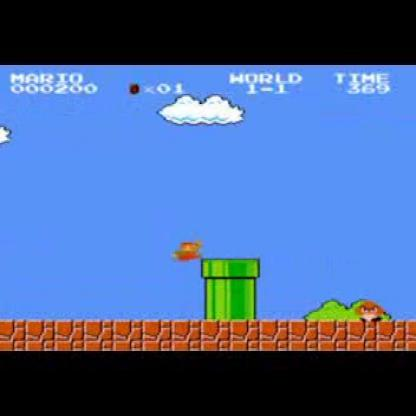Goomba: (354, 299, 384, 322)
